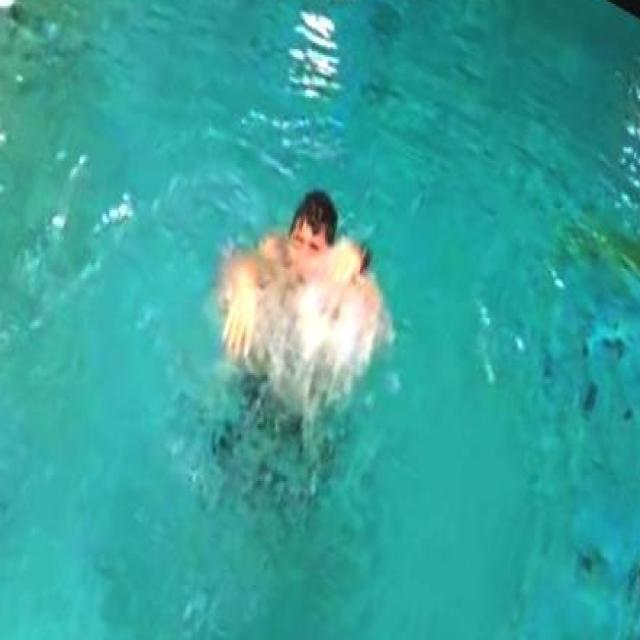Drowning: (206, 194, 388, 400)
